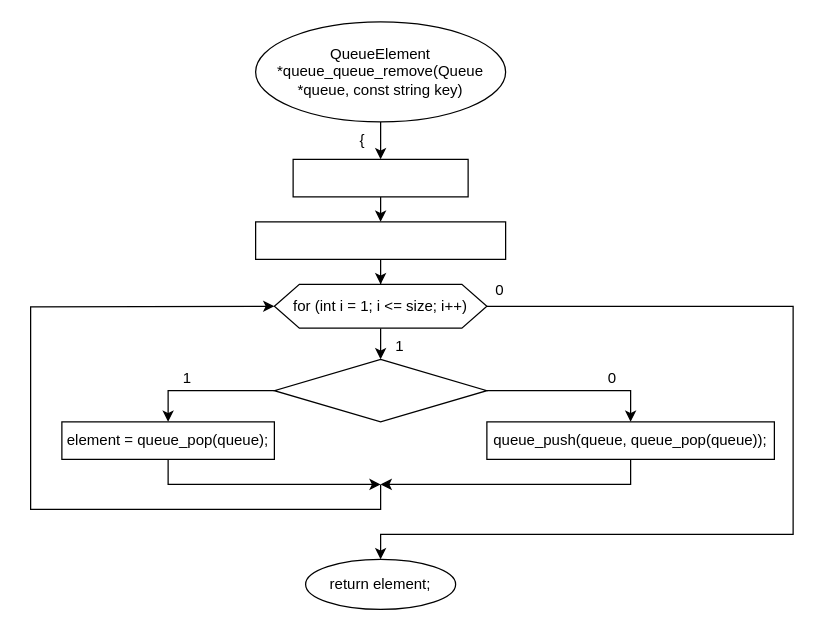
This 825x631 diagram has some shape labels left out. Here are the shapes that lost their labels. From the top down, the centre of each, then its label:
At (380,177): "int size = queue->size;".
At (380,240): "QueueElement *element = nullptr;".
At (380,390): "if (queue->first->key == key)".
